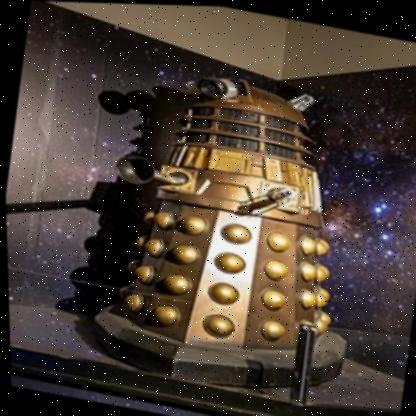dalek: (79, 45, 398, 416)
